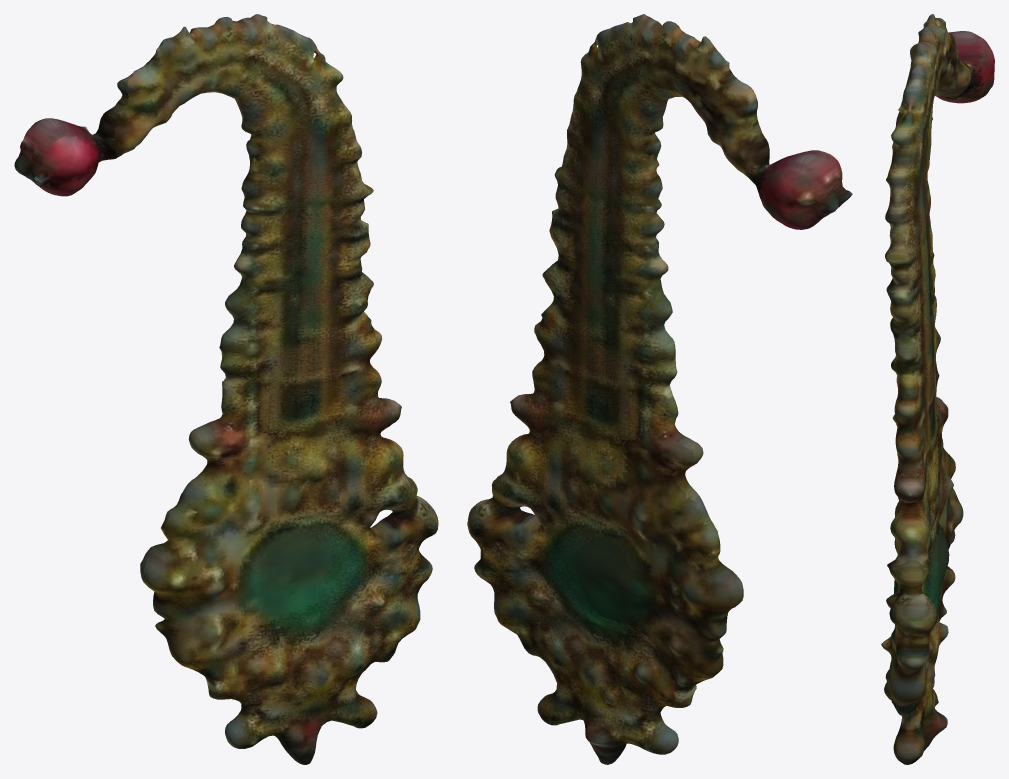
File: kfl-2229.glb
3 views of the same model, side by side, from view 1: azimuth 30°, elevation 25°; view 2: azimuth 150°, elevation 25°; view 3: azimuth 270°, elevation 25° (orthographic). The views are drawn at different scales.
Parts seen in each view (by area): view 1: geometry_0; view 2: geometry_0; view 3: geometry_0.
Boxes of the visible parts, x1,y1,x2,y2 form: geometry_0: (14, 14, 438, 764); geometry_0: (467, 14, 852, 764); geometry_0: (881, 14, 994, 764).
Size of the model in its own units: 0.534 by 0.9866 by 0.1451.
1 material, 1 textured.
